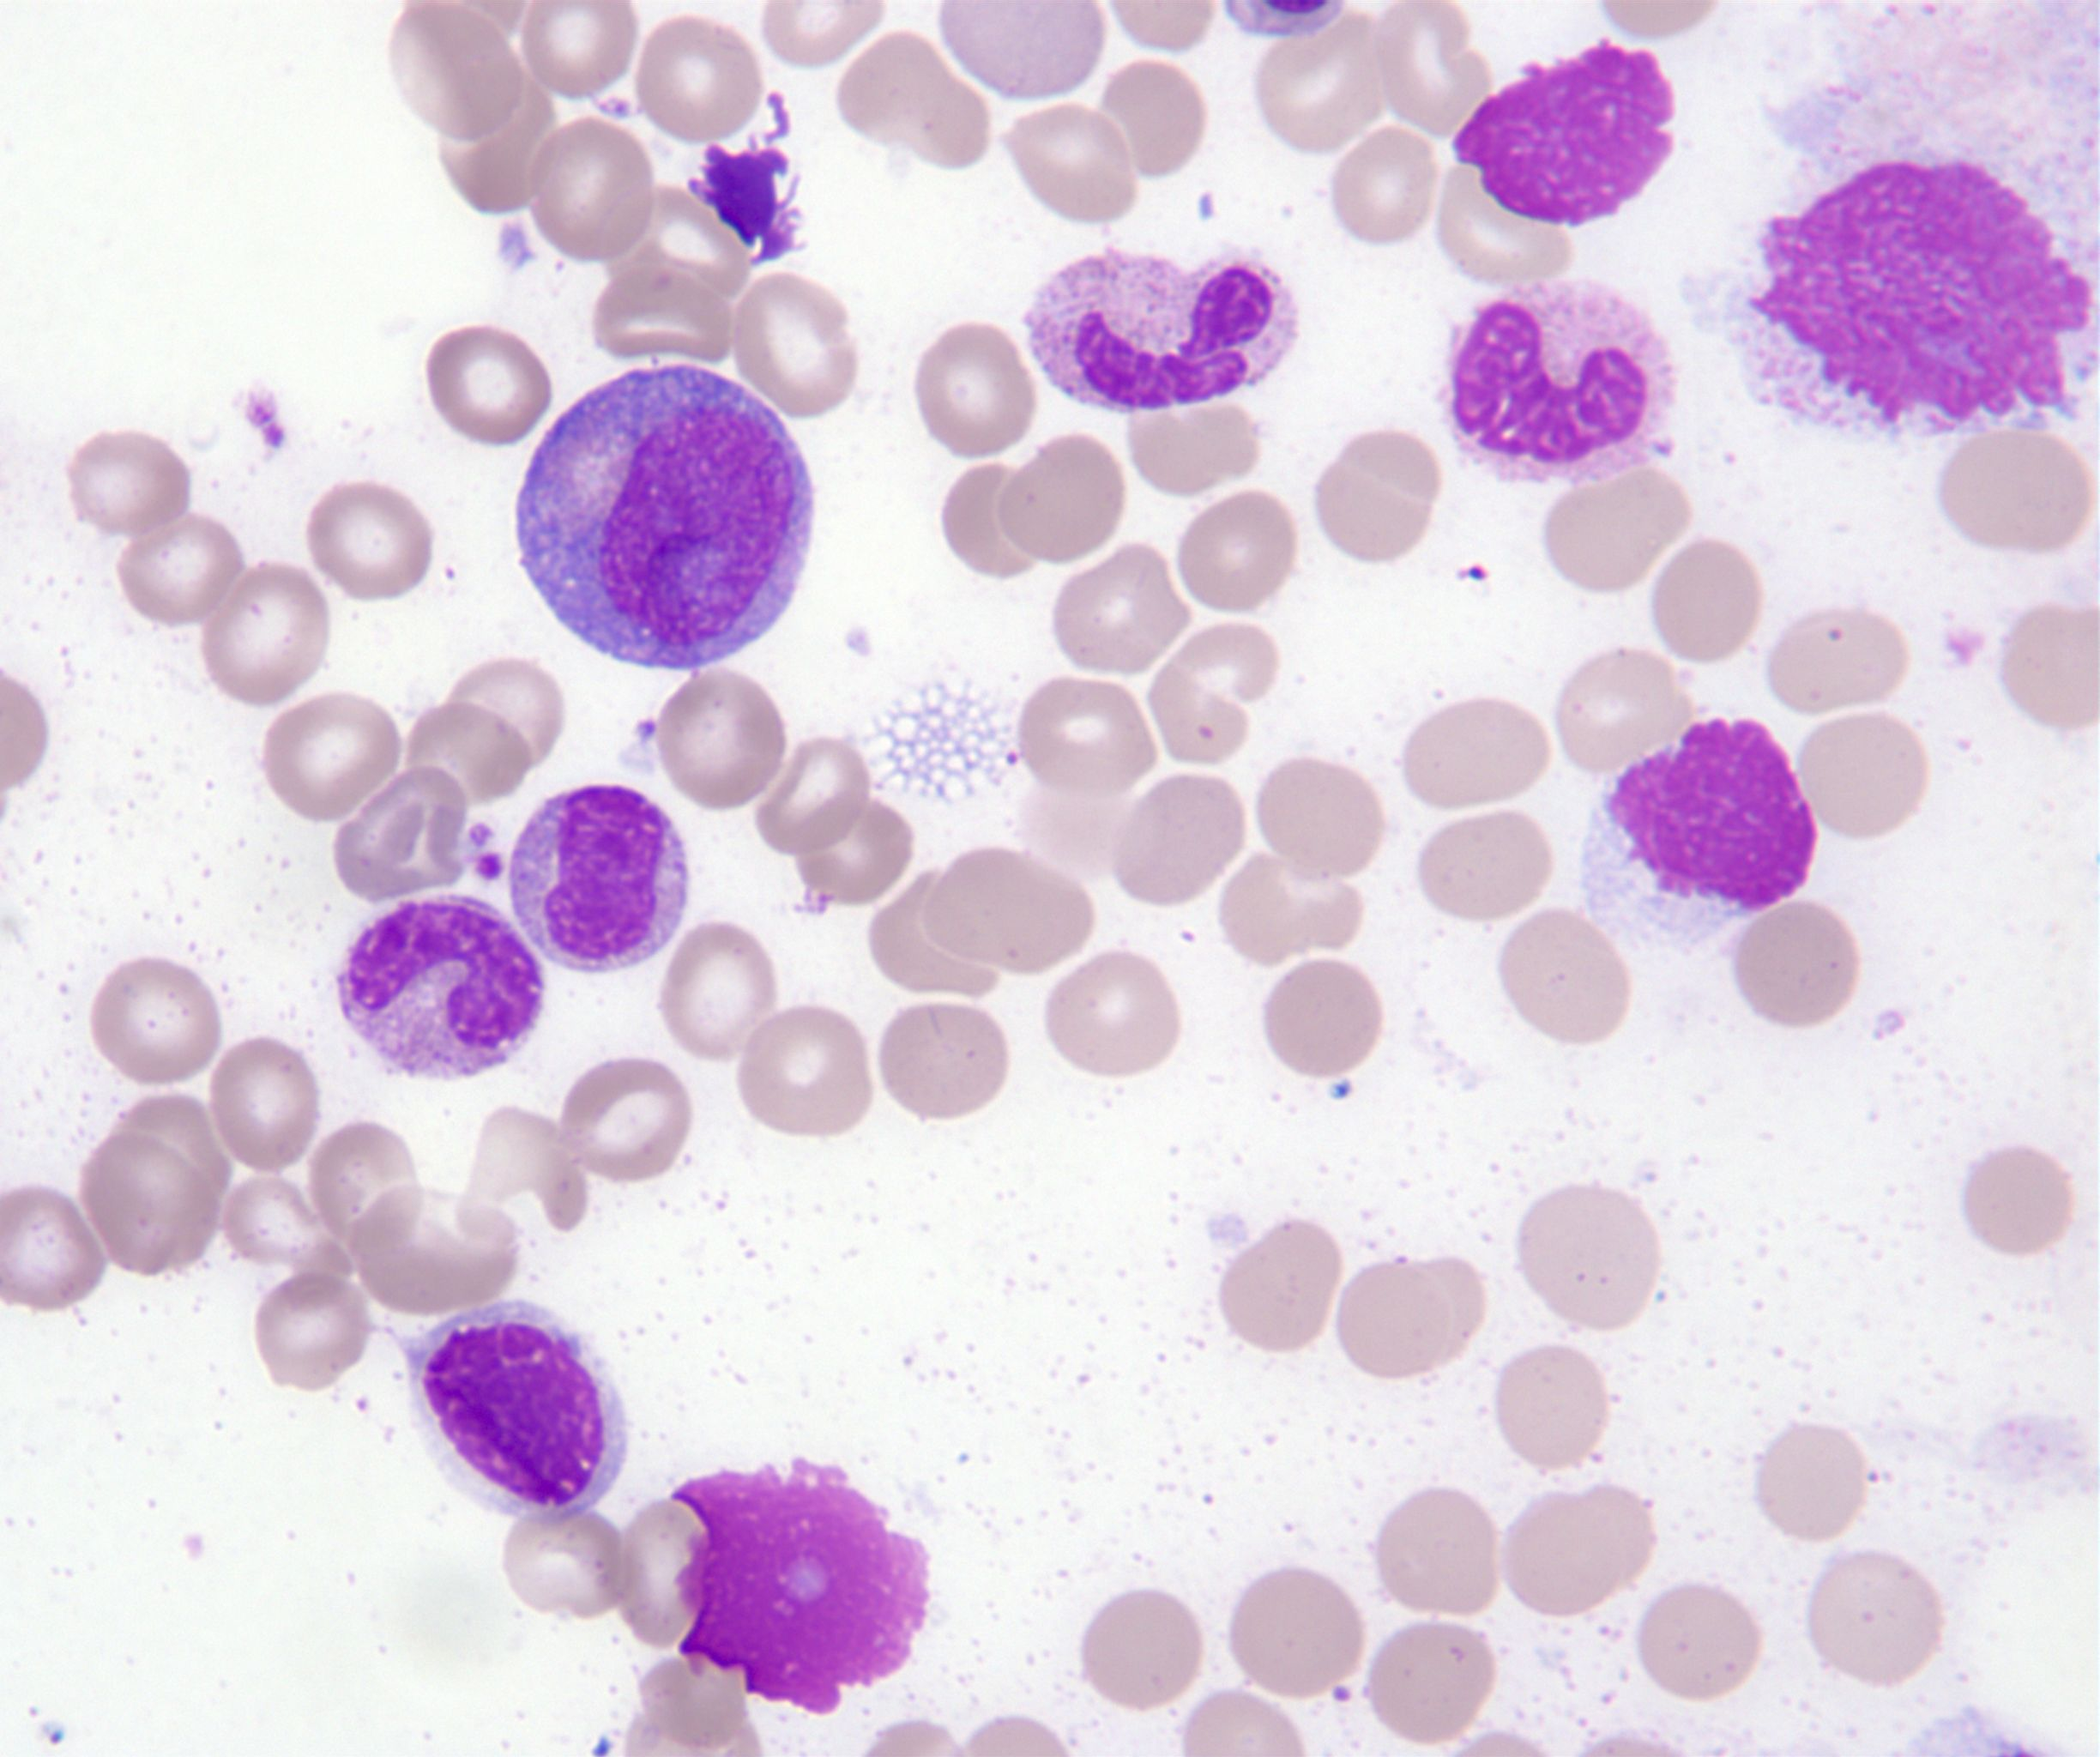2: (522, 365, 811, 670)
23: (412, 1302, 626, 1525)
4: (337, 897, 542, 1075), (513, 787, 682, 975)
5: (1026, 256, 1294, 410)
x: (1737, 2, 2100, 440), (668, 1460, 926, 1713), (1442, 279, 1673, 482), (1606, 719, 1817, 911), (1451, 45, 1674, 223)
